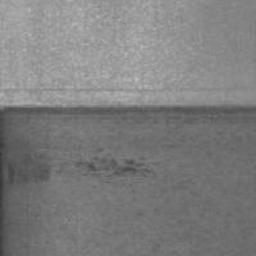Welding line: (0, 104, 256, 116)
